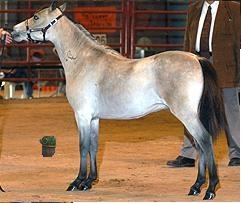tampered: (40, 137, 56, 157)
